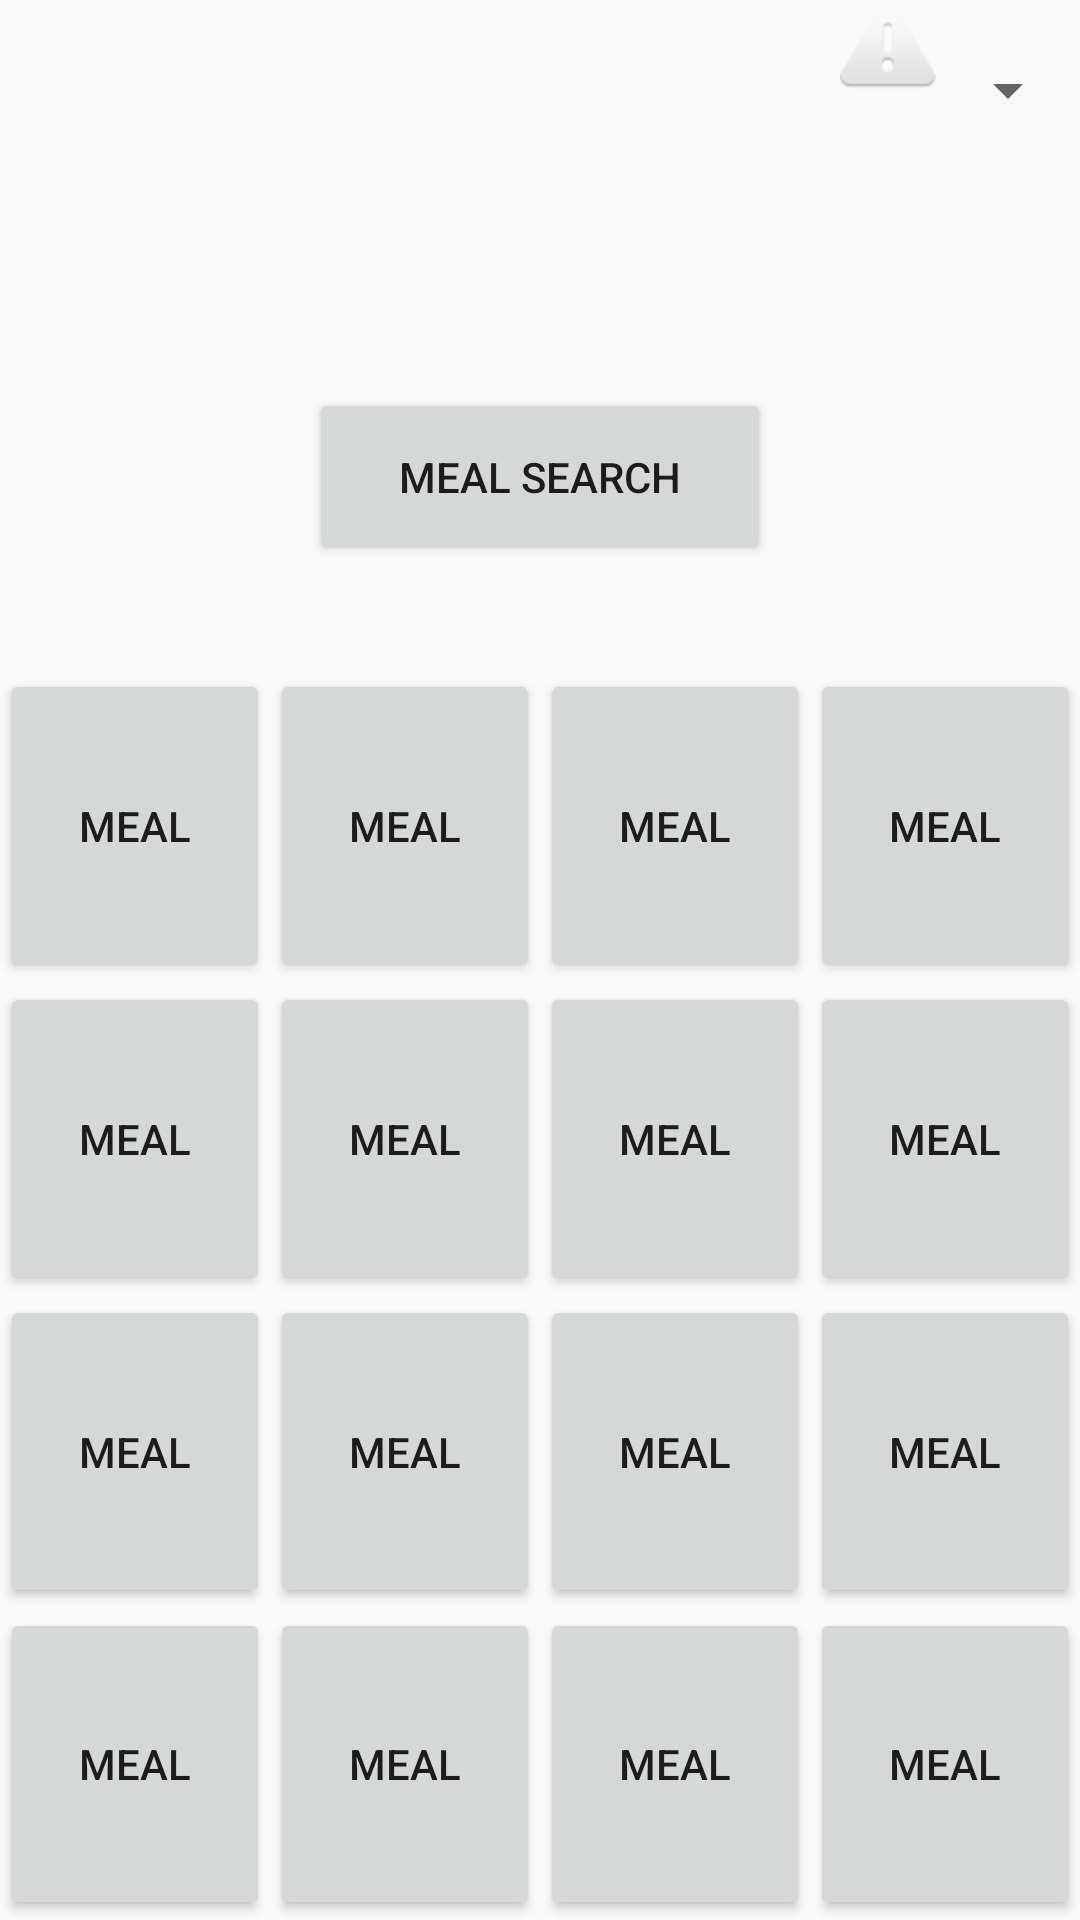

Where to tap for icons on this 1080x1920 app screen, as (x=x, y=y):
alert: (x=887, y=55)
